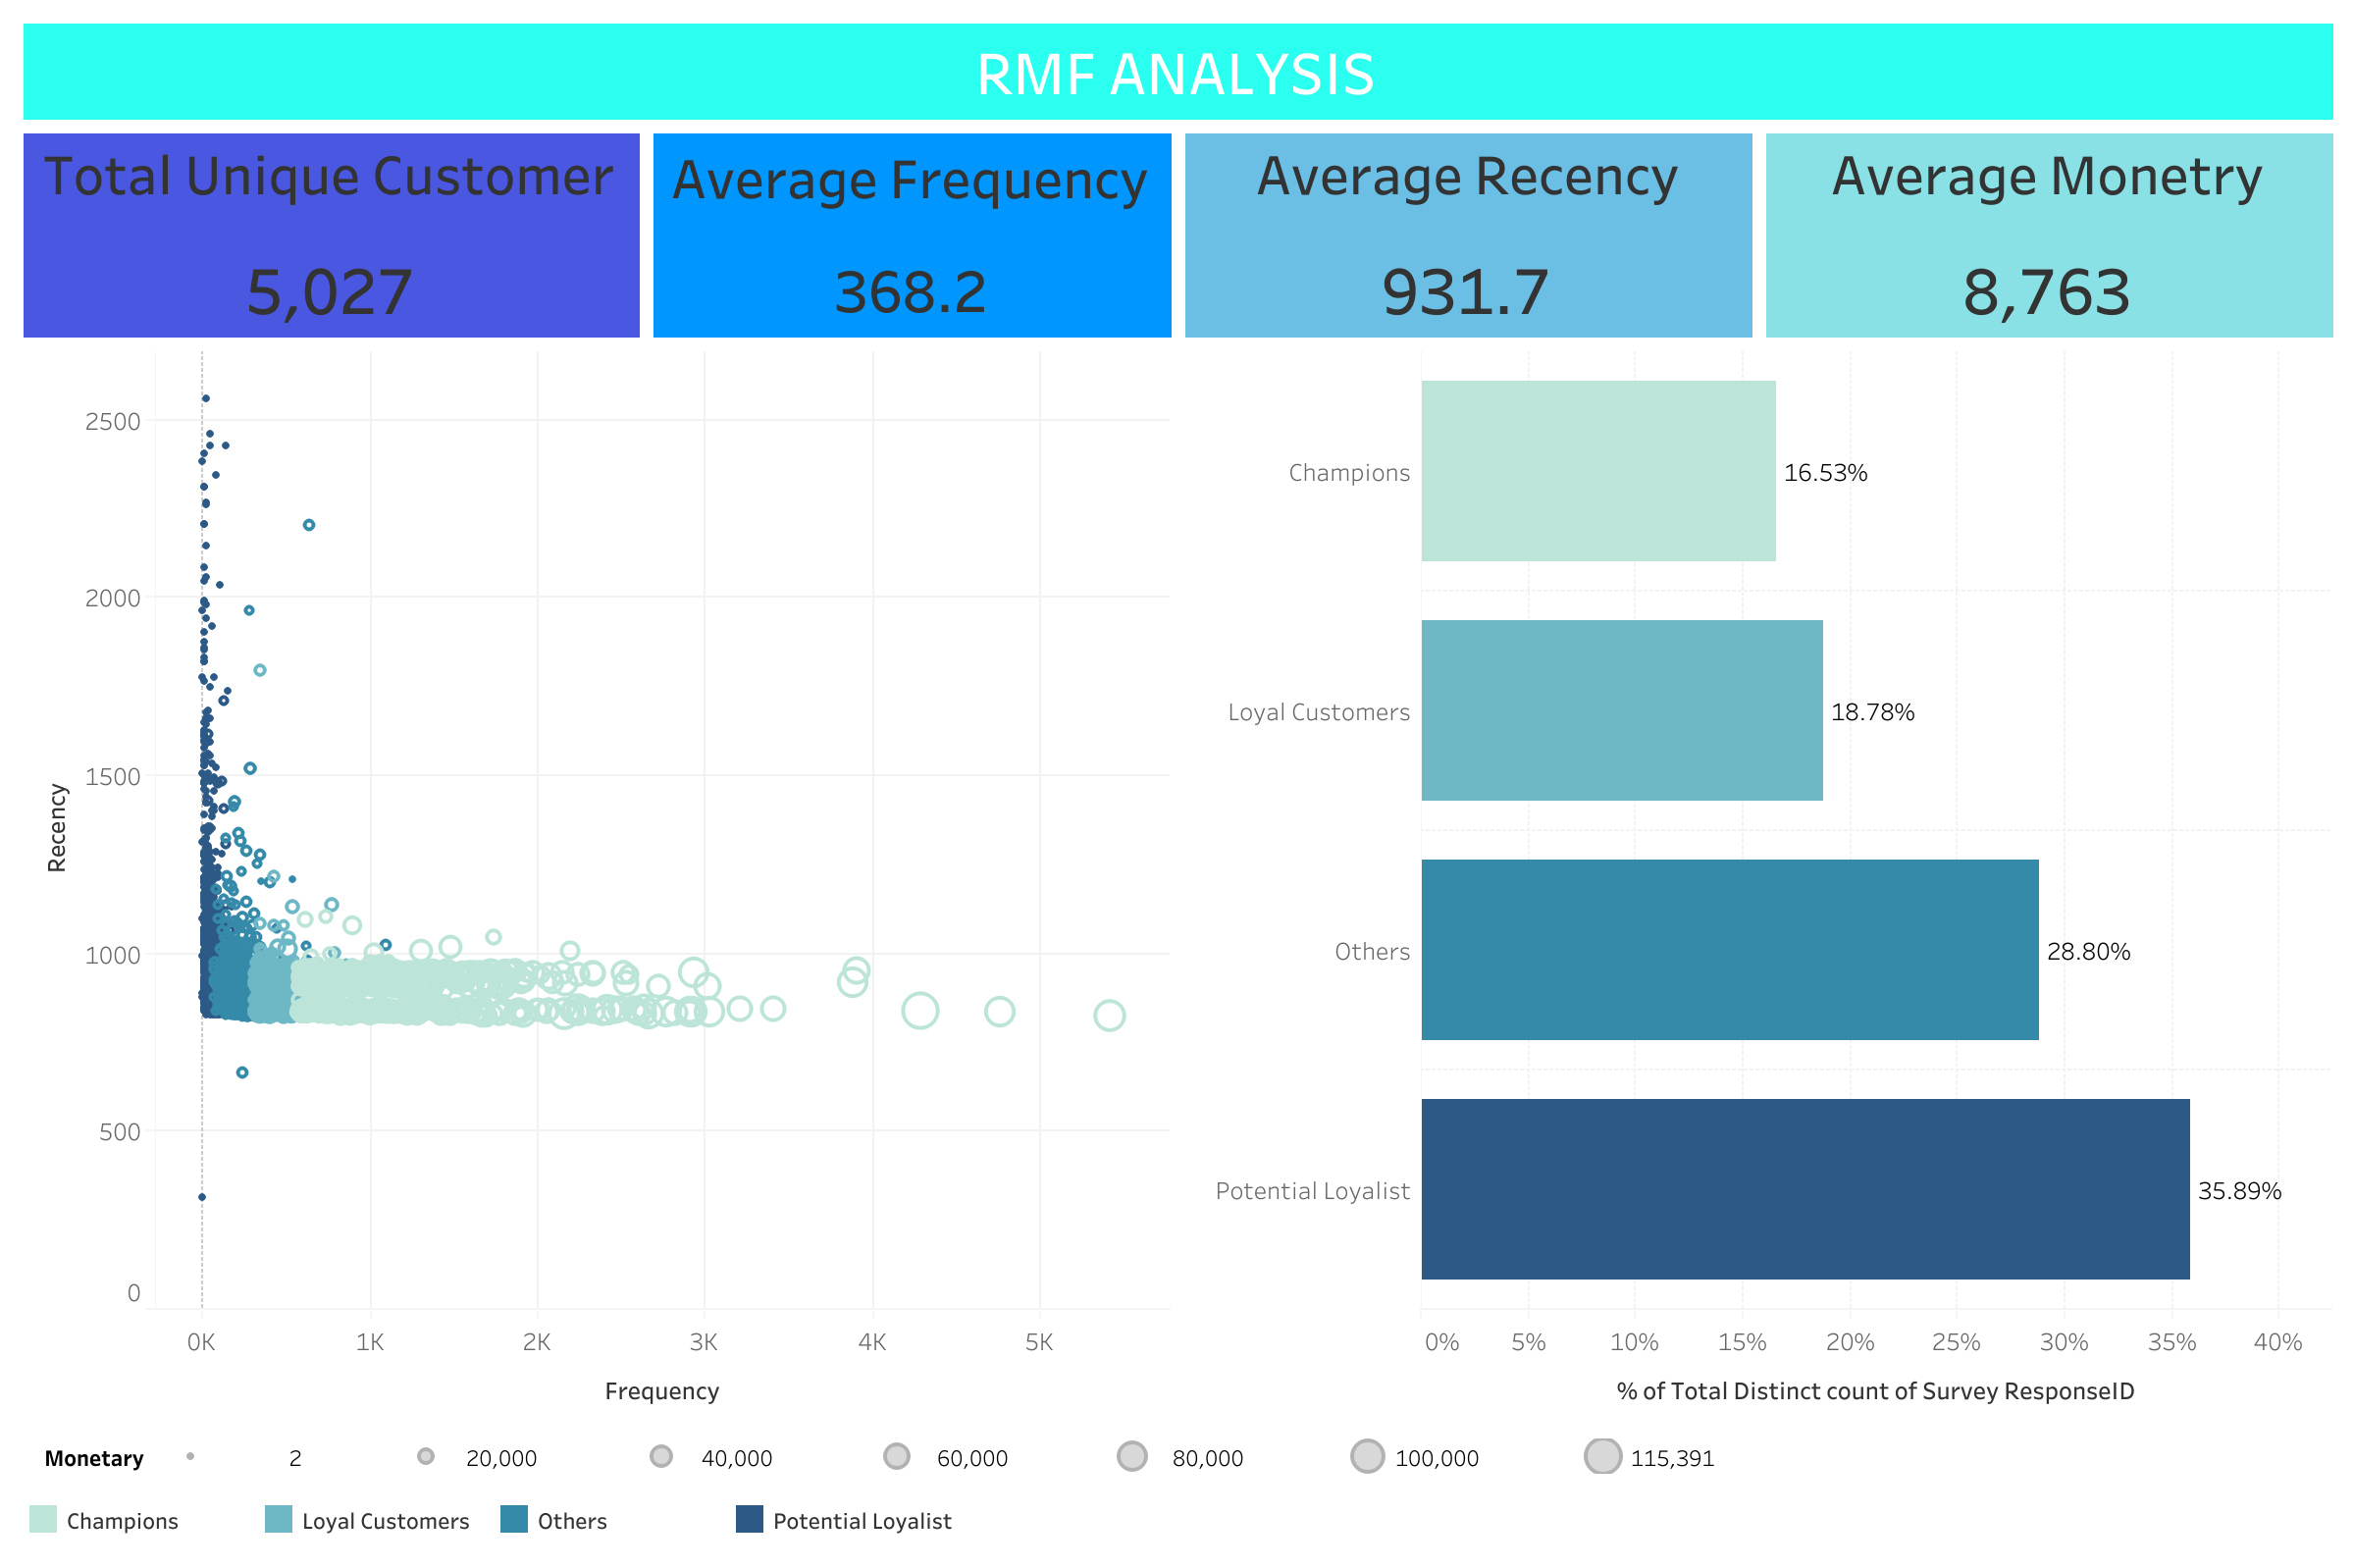

What the dashboard file says about the page in this screenshot:
{"tool":"tableau","page":{"name":"Customer Segmentation","canvas":[1000,1000],"units":"permille","ordinal":0},"visuals":[{"type":"title","box":[4.8,9.5,990.5,49.9]},{"type":"text","box":[4.8,59.5,990.5,42.9]},{"type":"worksheet","title":"Frequncy/rececny/monetary cluster","mark":"Automatic","rows":["recency"],"cols":["frequency"],"box":[4.8,102.3,891.1,513.5]},{"type":"legend","title":"Frequncy/rececny/monetary cluster","param":"[federated.0pqosuu031813w16i0w58026d3v2].[sum:monetary:qk]","box":[895.8,102.3,99.4,197.4]},{"type":"legend","title":"Customer segmentation","param":"[federated.0j3u9vk0ot9cq71elwf391a73357].[pcto:cnt:Survey_ResponseID:qk]","box":[895.8,299.7,99.4,61.8]},{"type":"legend","title":"Frequncy/rececny/monetary cluster","param":"[federated.0pqosuu031813w16i0w58026d3v2].[sum:cluster:qk]","box":[895.8,361.5,99.4,83.2]},{"type":"text","box":[895.8,444.8,99.4,21.4]},{"type":"worksheet","title":"Customer segmentation","mark":"Automatic","rows":["Survey_ResponseID"],"cols":["segment"],"box":[4.8,615.8,891.1,374.7]}]}

Visuals, with their boxes on the dashboard's canvas, which has no fixed pixel size, in thousandths of its width and height (x1, y1, x2, y2). These are canvas units, not pixel positions in the 2353x1568 screenshot, which may show the page scaled, cropped or inside an application window:
title: <region>5, 10, 995, 59</region>
text: <region>5, 60, 995, 102</region>
"Frequncy/rececny/monetary cluster" worksheet: <region>5, 102, 896, 616</region>
"Frequncy/rececny/monetary cluster" legend: <region>896, 102, 995, 300</region>
"Customer segmentation" legend: <region>896, 300, 995, 362</region>
"Frequncy/rececny/monetary cluster" legend: <region>896, 362, 995, 445</region>
text: <region>896, 445, 995, 466</region>
"Customer segmentation" worksheet: <region>5, 616, 896, 990</region>
